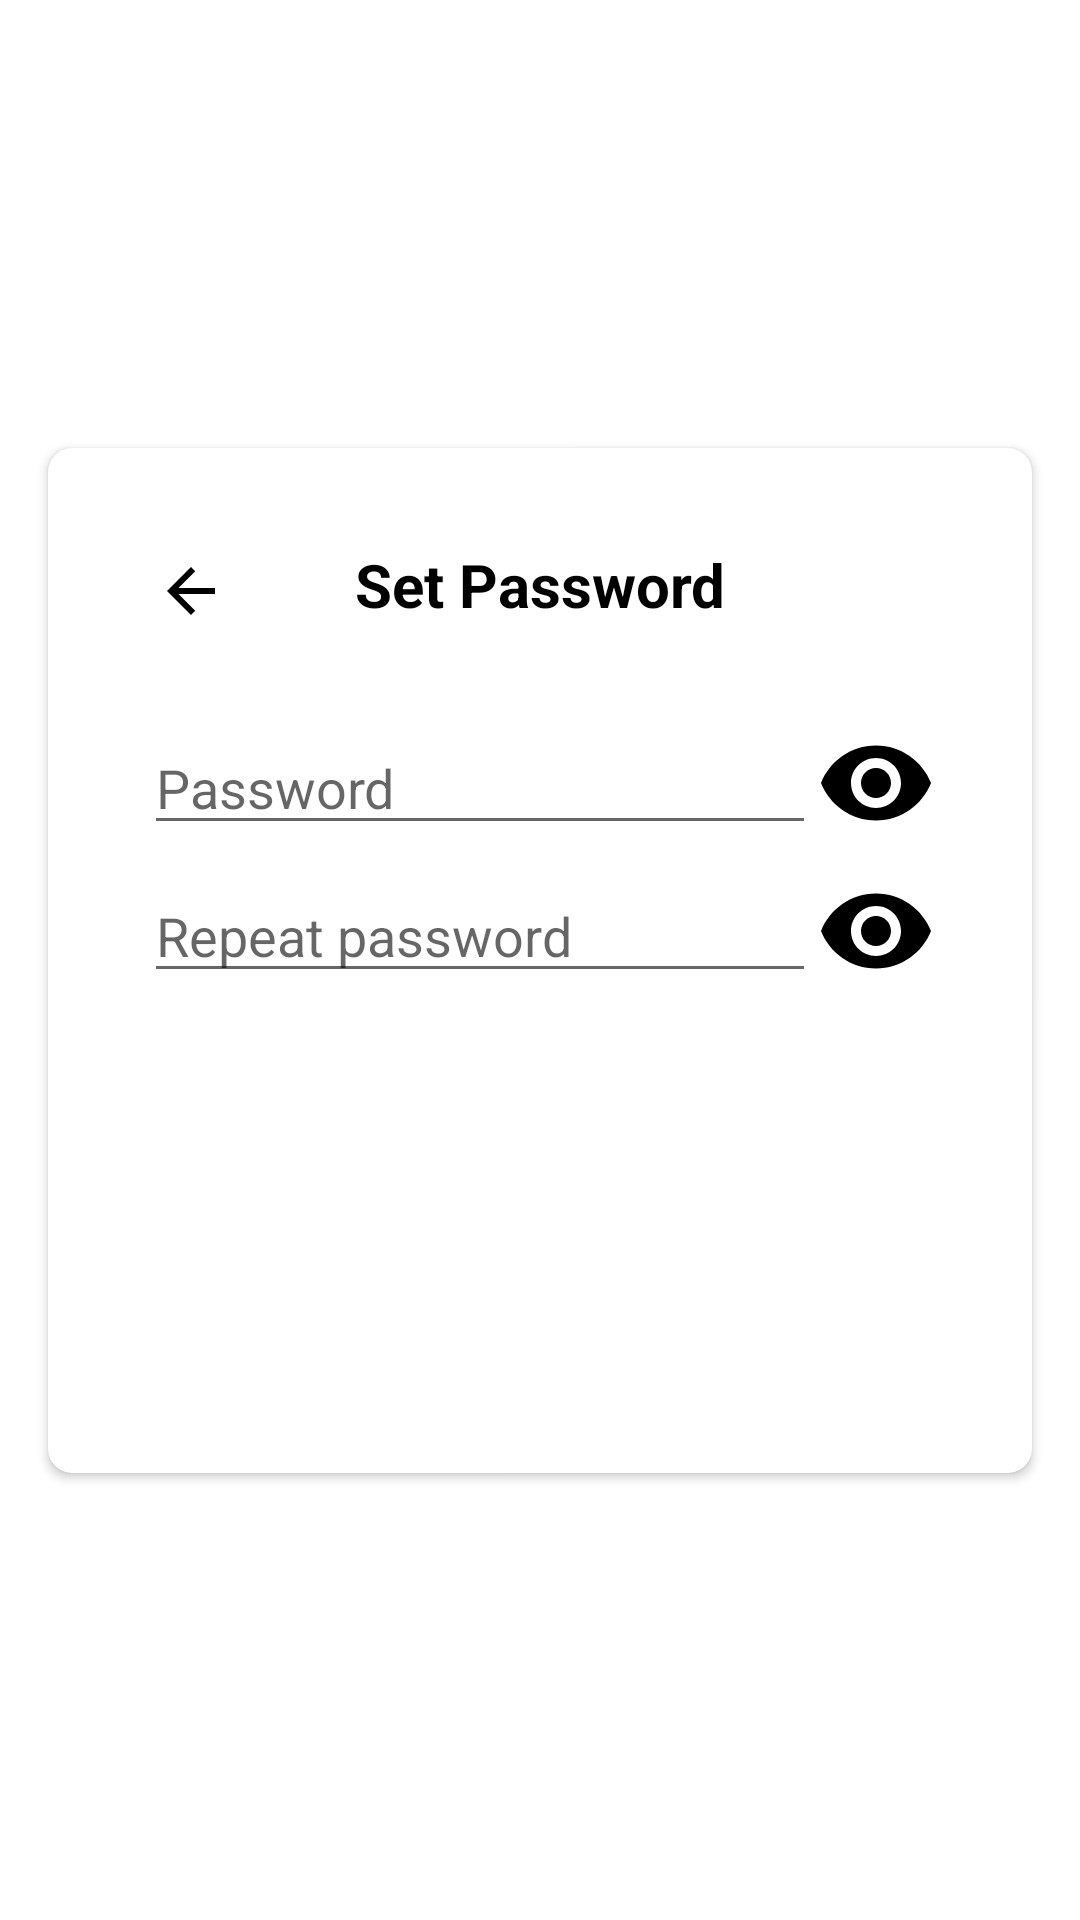

Icon click points for this 1080px×1920px phone screenshot, format (x,y):
back: (191,591)
